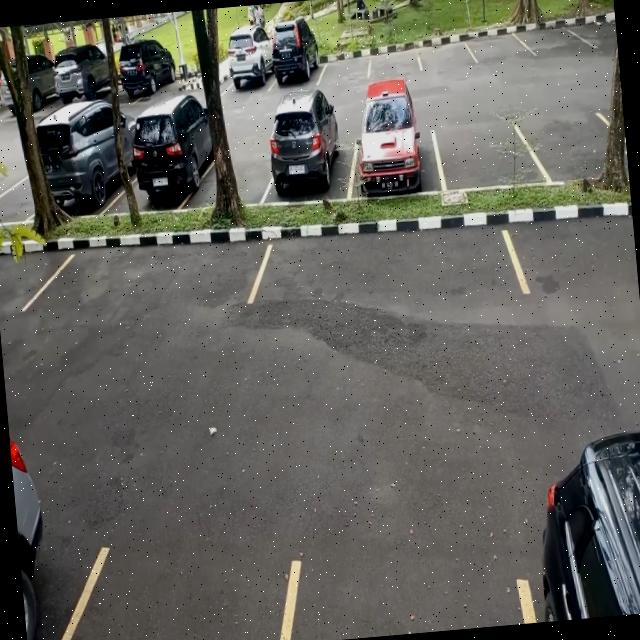empty: (262, 205, 528, 318), (34, 216, 266, 326), (59, 550, 291, 640), (289, 561, 535, 640), (526, 105, 628, 184), (434, 114, 534, 191), (526, 12, 592, 58), (415, 24, 474, 72), (367, 28, 422, 78), (471, 23, 529, 69), (320, 36, 372, 82)
occupied: (126, 104, 218, 214), (260, 102, 352, 206), (347, 94, 442, 194), (269, 32, 323, 92), (225, 34, 275, 95)
